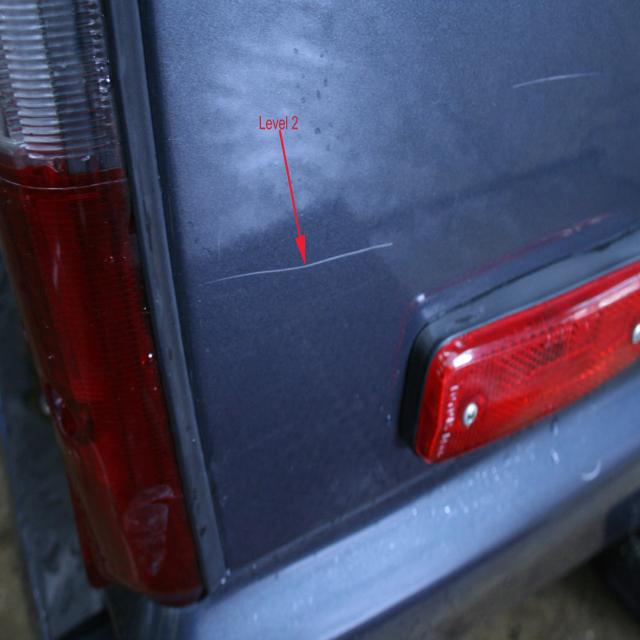scratch: (199, 239, 397, 290), (509, 72, 599, 90), (555, 212, 610, 241)
